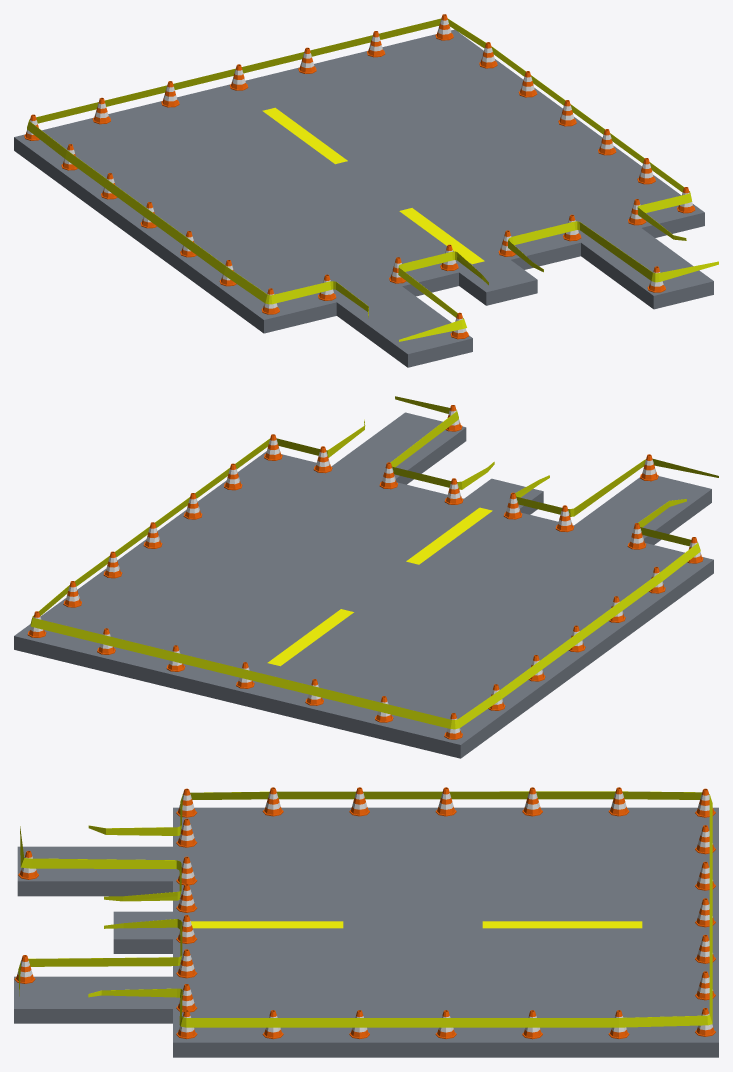
The model's file is 1st floor.fbx.
3 views of the same model, one above another, from view 1: azimuth 30°, elevation 25°; view 2: azimuth 150°, elevation 25°; view 3: azimuth 270°, elevation 25° (orthographic). The views are drawn at different scales.
Parts seen in each view (by area): view 1: 1st, Lenta, Conus 1; view 2: 1st, Lenta, Conus 1; view 3: 1st, Lenta, Conus 1.
Part boxes in pixels (x1,y1,x2,y2): 1st: [14, 29, 713, 367]; Lenta: [27, 18, 718, 341]; Conus 1: [24, 14, 695, 339]; 1st: [14, 412, 713, 758]; Lenta: [30, 396, 718, 729]; Conus 1: [27, 405, 703, 739]; 1st: [14, 807, 718, 1057]; Lenta: [18, 791, 712, 1027]; Conus 1: [14, 787, 715, 1039].
Bounding box in the file's own units: 2089 × 166 × 2647.
